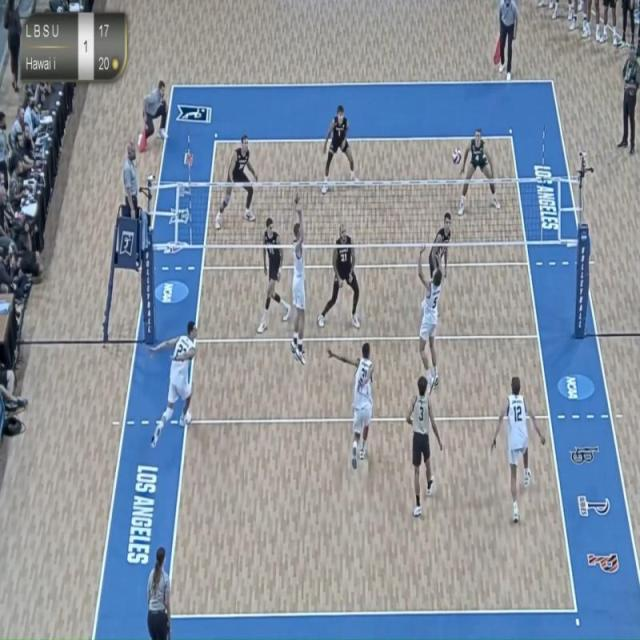volleyball: (450, 143, 464, 167)
